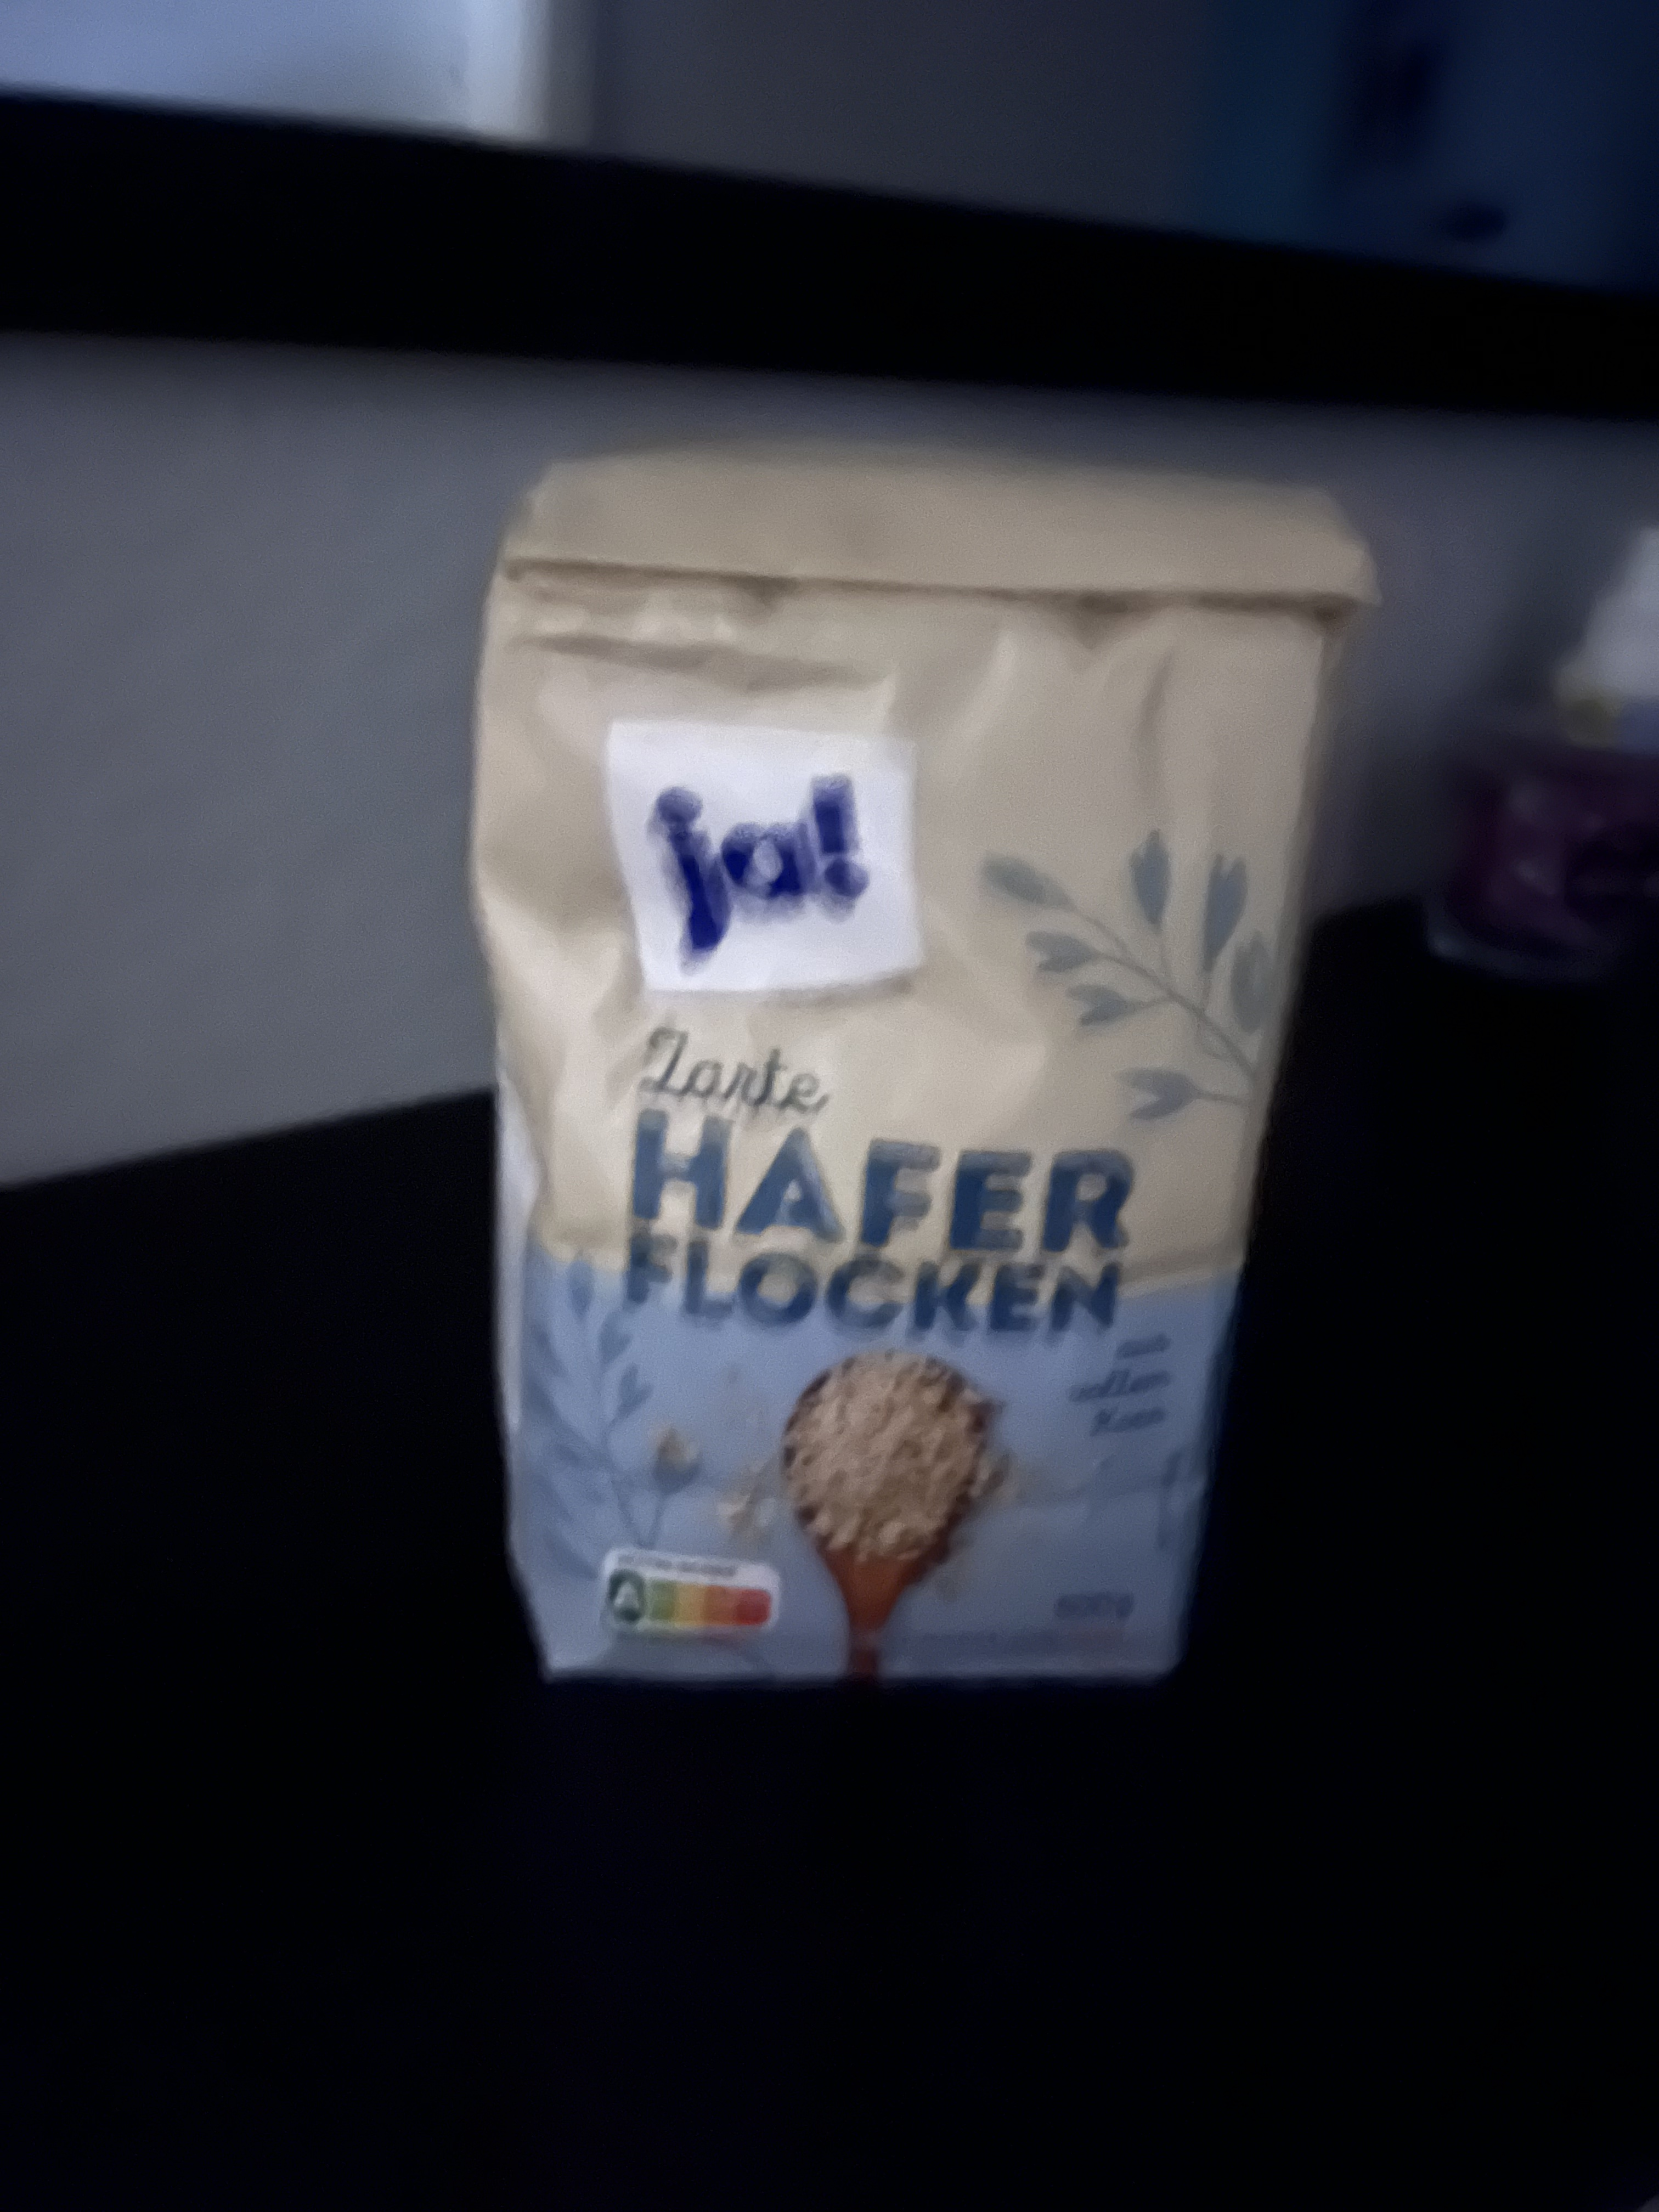haferflocken_ja: (469, 435, 1382, 1691)
